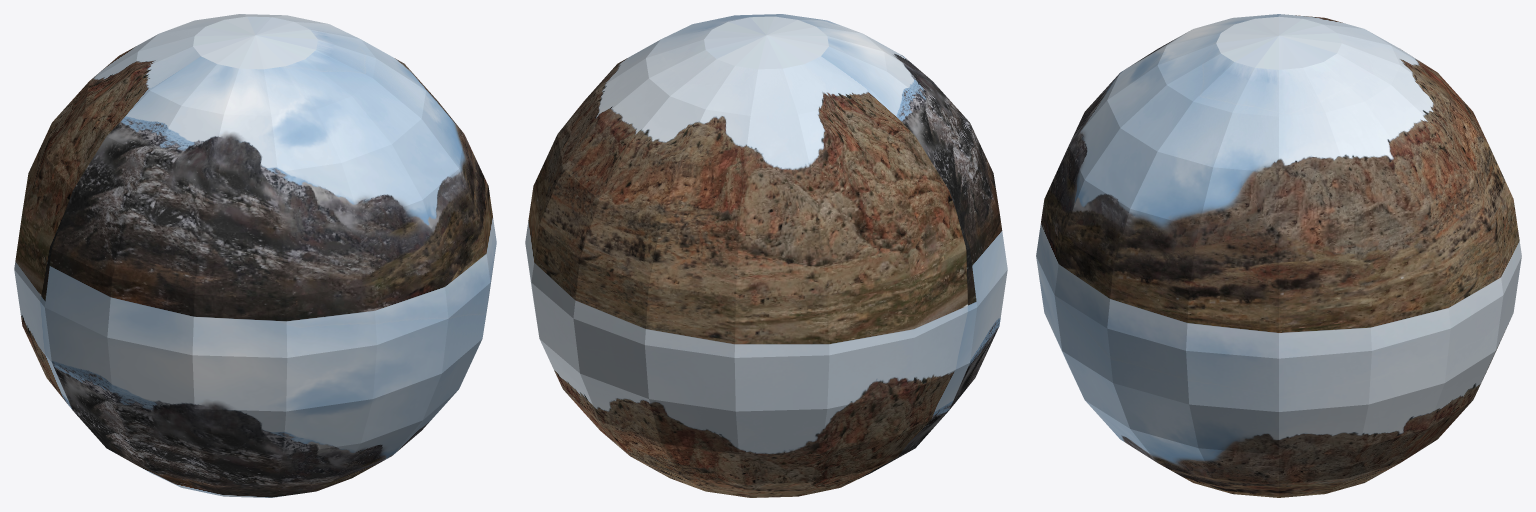
Rendered from environment.fbx.
The picture shows the model from 3 angles, left to right: view 1: azimuth 30°, elevation 25°; view 2: azimuth 150°, elevation 25°; view 3: azimuth 270°, elevation 25°; orthographic projection.
Visible parts, largest first — view 1: Sphere; view 2: Sphere; view 3: Sphere.
Boxes of the visible parts, bbox=[...] form: Sphere: bbox=[14, 14, 496, 497]; Sphere: bbox=[525, 14, 1007, 497]; Sphere: bbox=[1036, 14, 1521, 497].
Bounding box in the file's own units: 56239 × 55294 × 56239.
